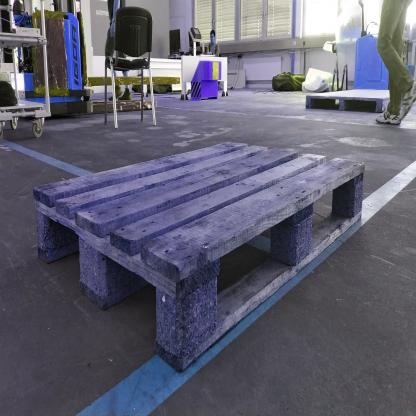BoxFace: (31, 136, 365, 379), (304, 83, 391, 113)
